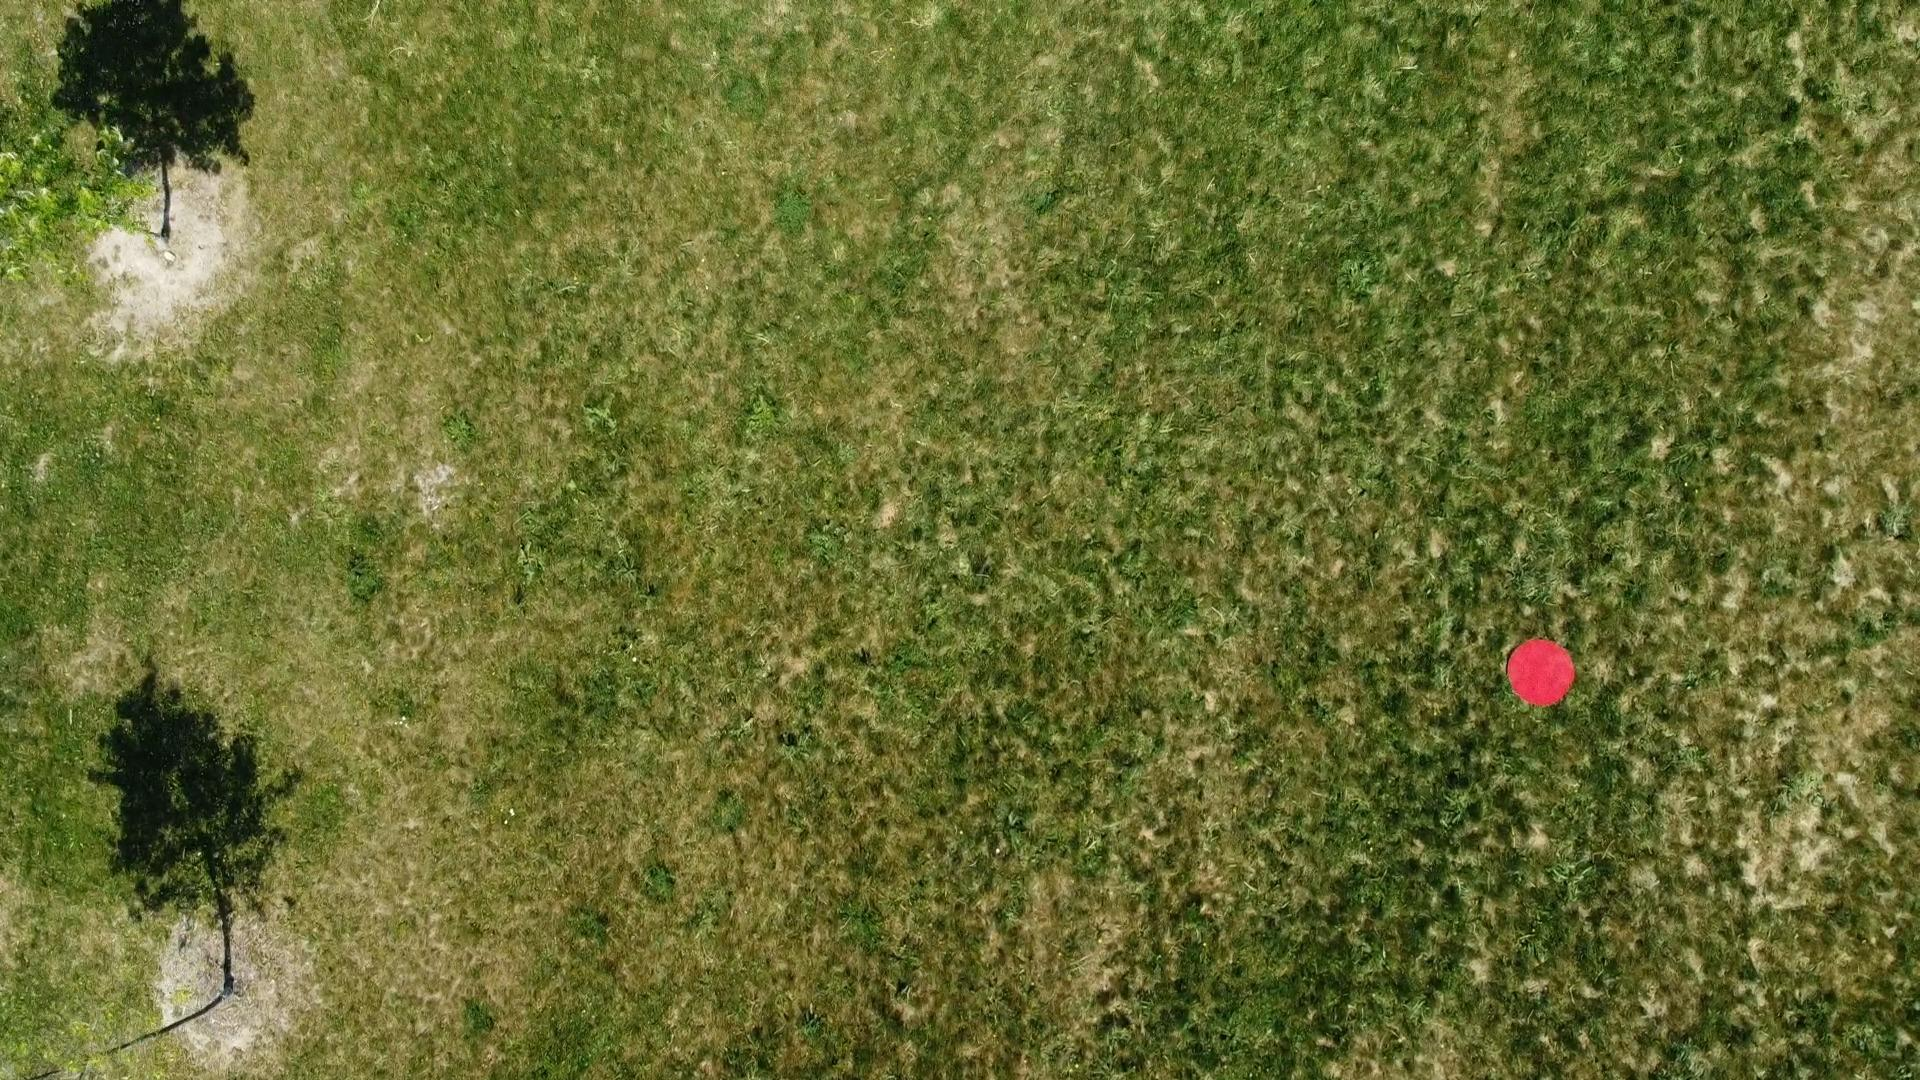Red: (1503, 634, 1578, 707)
